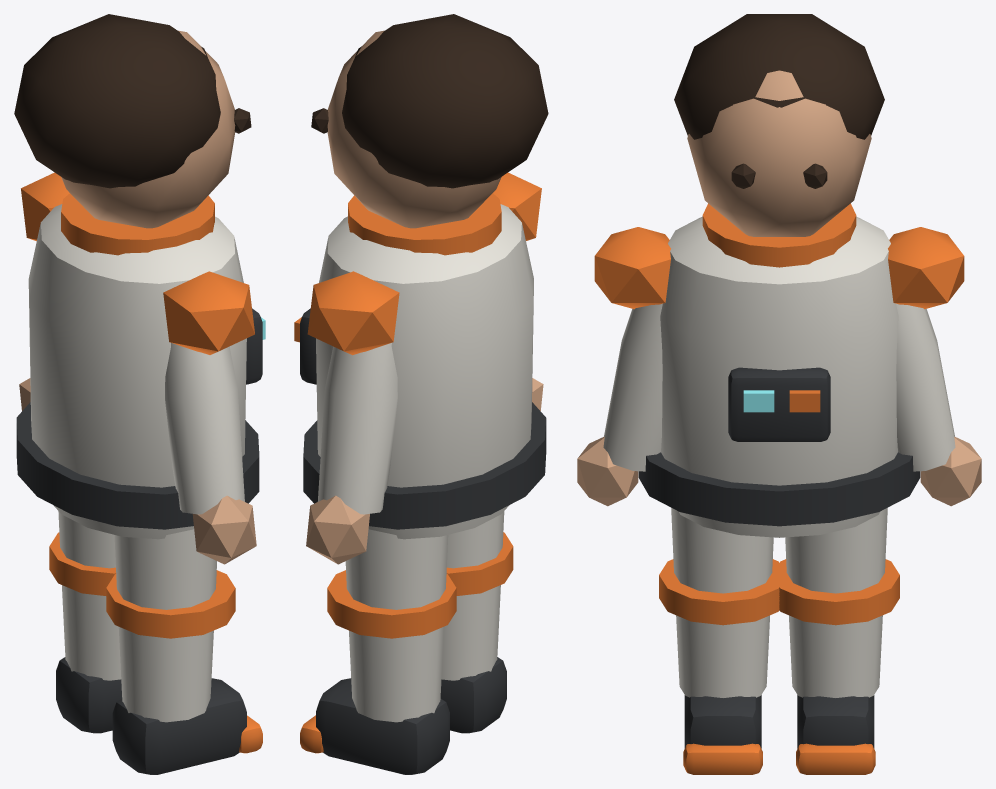
The model's file is human_indoor.gltf.
3 views of the same model, side by side, from view 1: azimuth 30°, elevation 25°; view 2: azimuth 150°, elevation 25°; view 3: azimuth 270°, elevation 25° (orthographic).
Parts seen in each view (by area): view 1: Colonist; view 2: Colonist; view 3: Colonist.
Part boxes in pixels (x1,y1,x2,y2): Colonist: [14, 14, 265, 774]; Colonist: [294, 14, 548, 774]; Colonist: [577, 14, 981, 774].
Size of the model in its own units: 0.1939 by 0.6152 by 0.3156.
